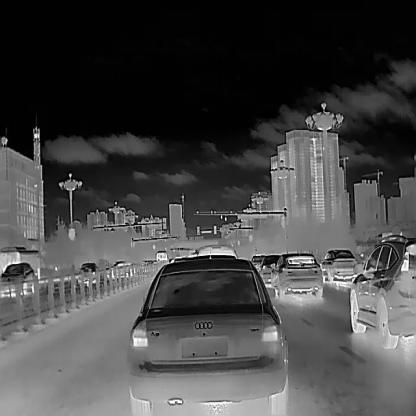bus: (0, 244, 40, 281)
car: (127, 261, 287, 397), (349, 233, 415, 348), (270, 251, 323, 297), (0, 261, 36, 296), (320, 247, 358, 280), (258, 252, 287, 281), (78, 262, 100, 286)
